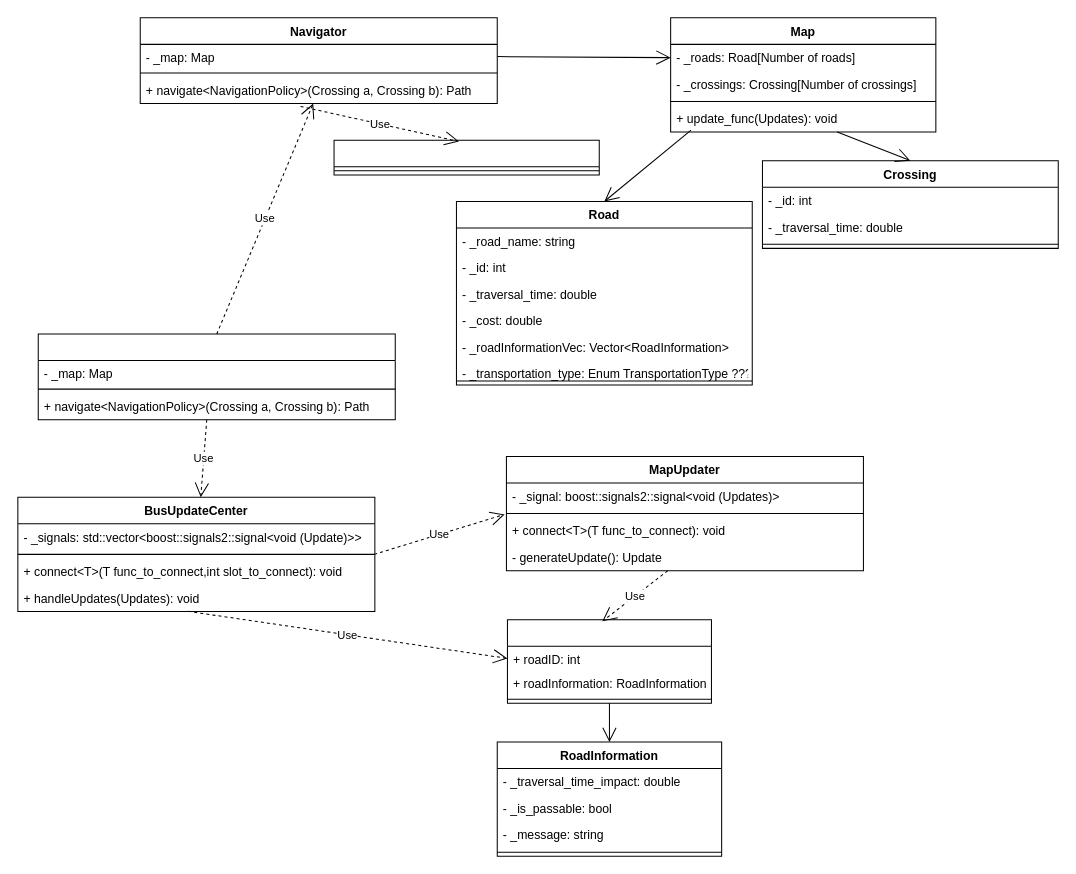
This 1076x874 diagram has some shape labels left out. Each missing label, with the box of its shape:
Bus: (37, 333, 395, 420)
Path: (333, 139, 599, 175)
Update: (506, 619, 711, 703)
